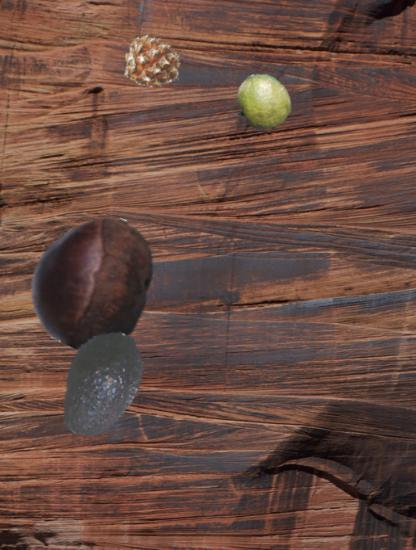Avocado: (45, 329, 156, 440)
Chestnut: (24, 212, 163, 351)
Limes: (233, 73, 291, 131)
Pineapple: (124, 32, 183, 91)
